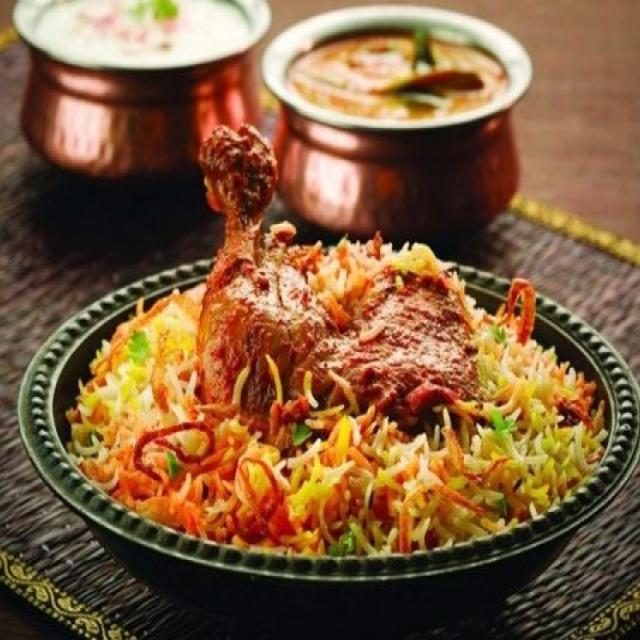Biryani: (58, 215, 622, 568)
